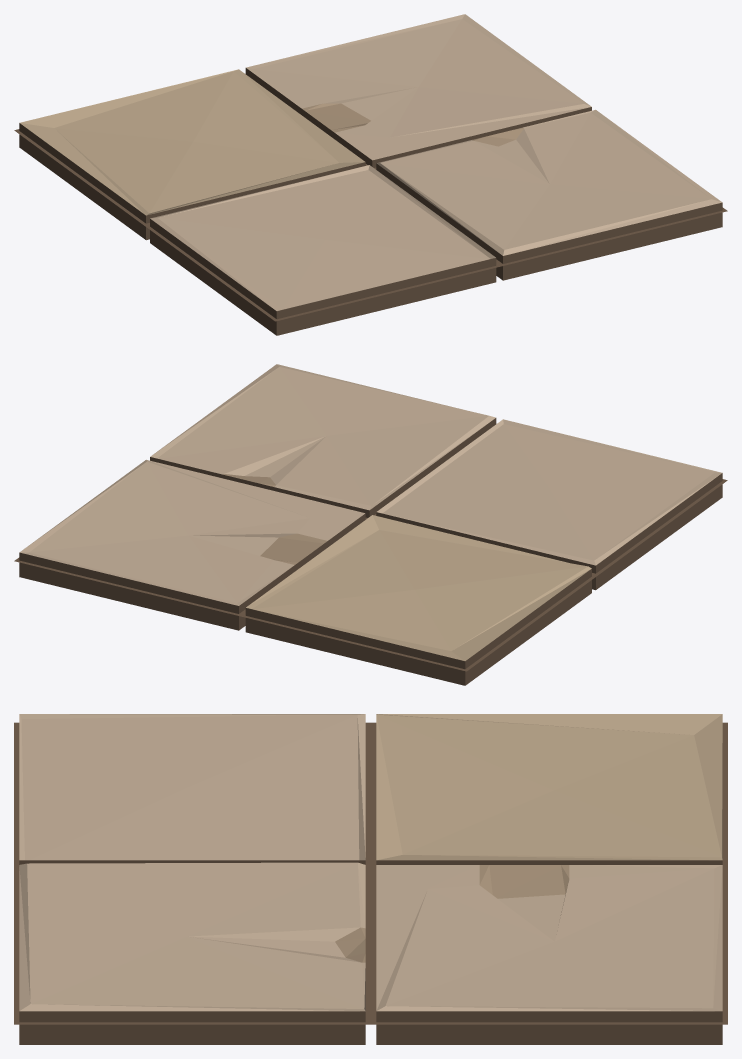
Rendered from SM_Ground_PavingTile_03.fbx.
3 renders of one model, top to bottom at view 1: azimuth 30°, elevation 25°; view 2: azimuth 150°, elevation 25°; view 3: azimuth 270°, elevation 25°, orthographic. The views are drawn at different scales.
Visible parts, largest first — view 1: SM_Ground_PavingTile_03; view 2: SM_Ground_PavingTile_03; view 3: SM_Ground_PavingTile_03.
Part boxes in pixels (<box>): SM_Ground_PavingTile_03: <box>14,14,727,335</box>; SM_Ground_PavingTile_03: <box>14,364,727,685</box>; SM_Ground_PavingTile_03: <box>14,714,727,1044</box>.
Bounding box in the file's own units: 1 × 0.0584 × 1.
Materials: 1 (1 with a texture image).
